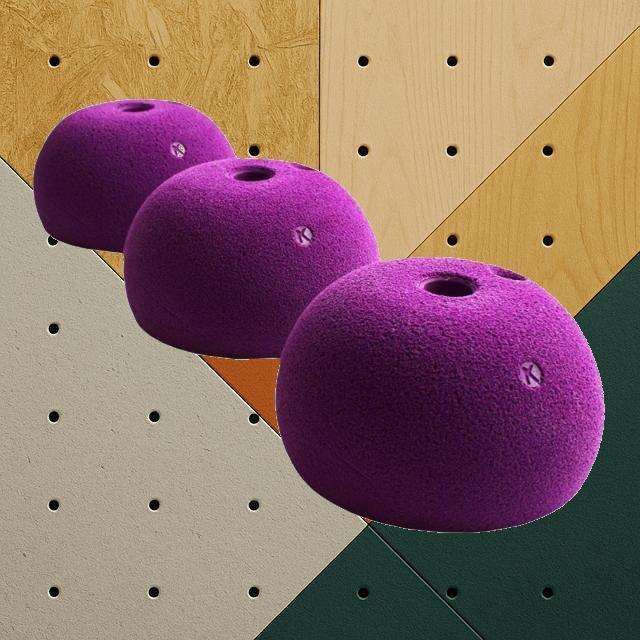Sloper: (274, 254, 606, 534), (122, 156, 380, 360), (32, 97, 236, 253)
